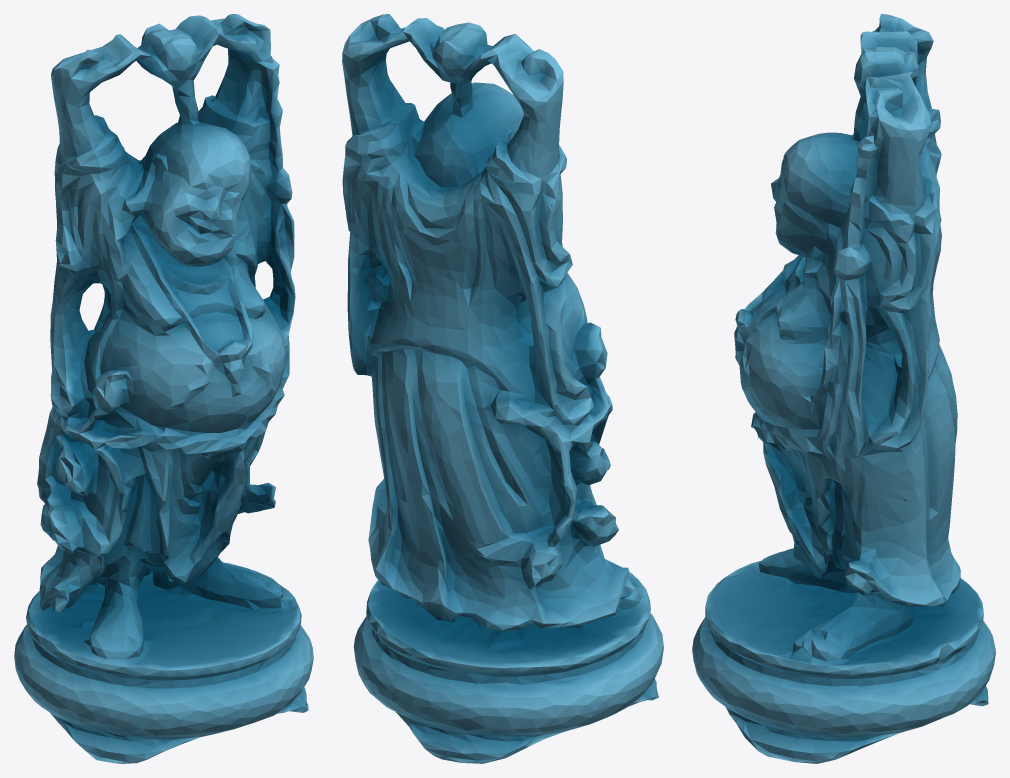
Rendered from happy10KC.obj.
The picture shows the model from 3 angles, left to right: view 1: azimuth 30°, elevation 25°; view 2: azimuth 150°, elevation 25°; view 3: azimuth 270°, elevation 25°; orthographic projection. The views are drawn at different scales.
Size of the model in its own units: 0.0814 by 0.1981 by 0.0815.
